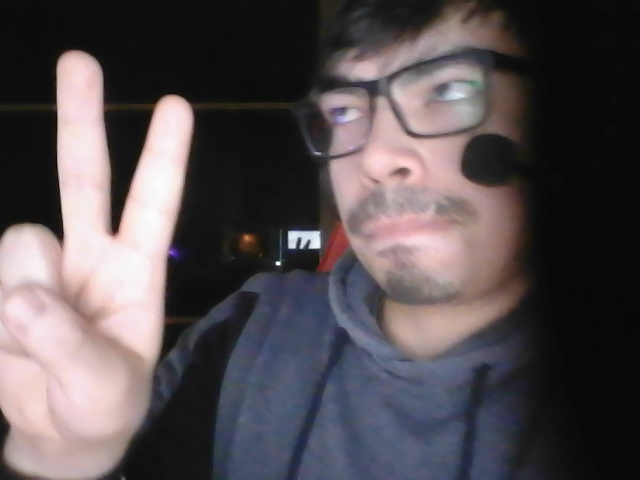two: (1, 25, 229, 479)
